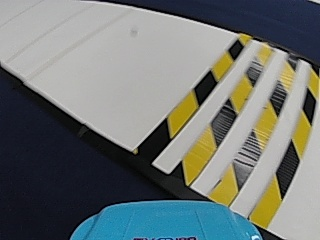bump: (146, 29, 313, 195)
